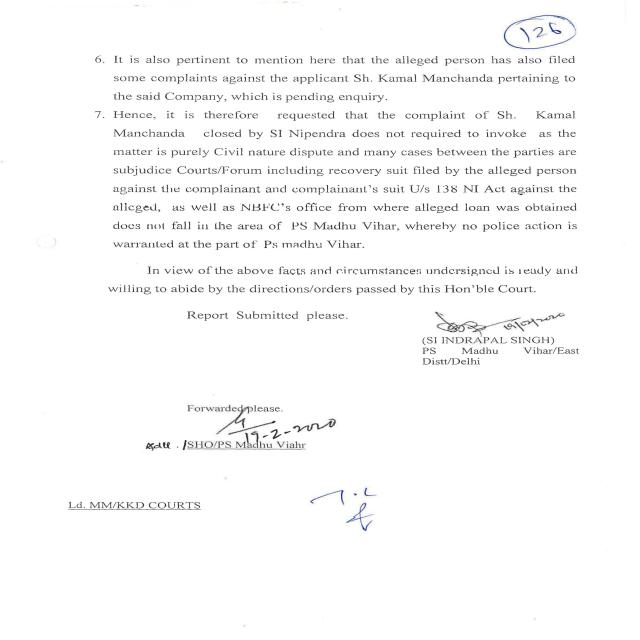page-number: (359, 0, 627, 51)
